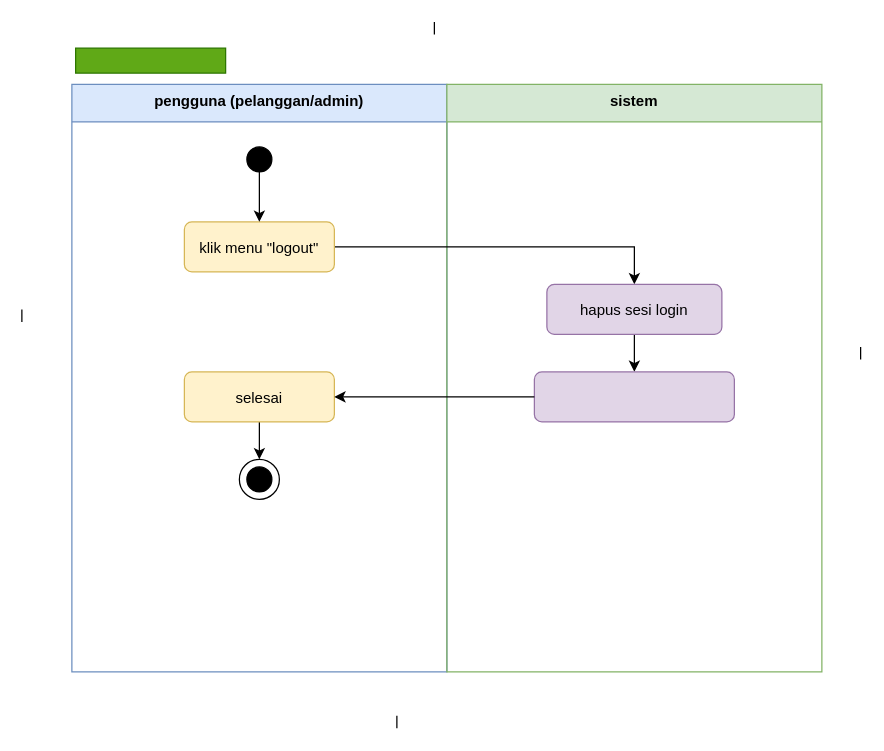
The diagram is 884 pixels wide and 751 high, and some of its shapes have lost their labels. The centre of each missing label's shape, as x and y in pixels:
Activity Logout: the point at 150,60
arahkan ke halaman login: the point at 633,396
